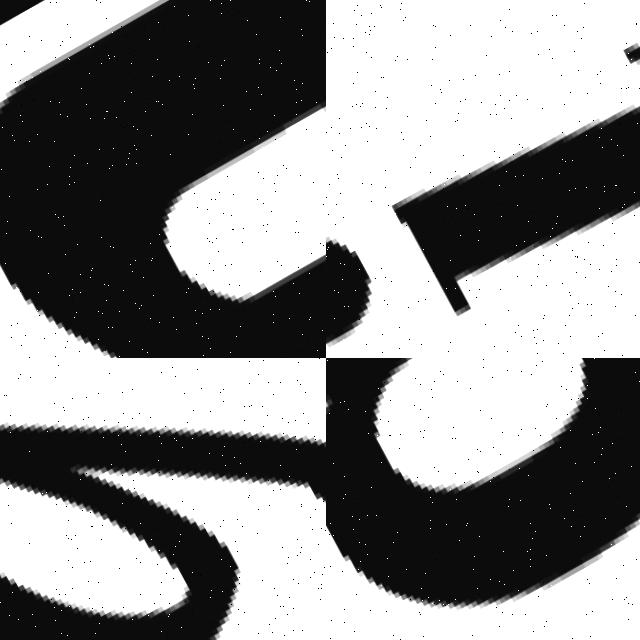9: (0, 358, 326, 640)
D: (326, 358, 640, 640)
I: (326, 3, 640, 358)
N: (0, 0, 326, 358)
